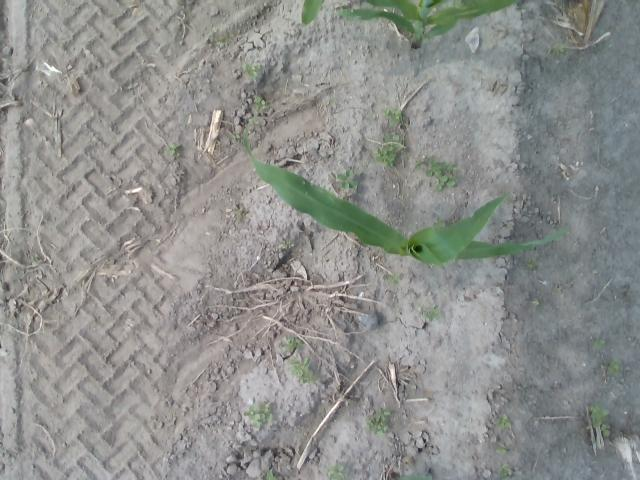Maize: (244, 117, 570, 268), (302, 0, 518, 49), (388, 471, 428, 480)
Weeds: (424, 154, 454, 190), (245, 402, 274, 428), (289, 355, 314, 380), (374, 145, 400, 164), (338, 169, 360, 191), (382, 107, 403, 121), (328, 462, 344, 479), (496, 463, 516, 476), (242, 63, 258, 79), (592, 405, 609, 420), (494, 414, 510, 429), (496, 440, 512, 454), (420, 307, 440, 318), (548, 43, 566, 55), (283, 338, 301, 349), (599, 420, 610, 437), (376, 408, 391, 420), (386, 272, 402, 283), (384, 133, 400, 144), (307, 370, 319, 384), (523, 258, 536, 270), (169, 143, 182, 155), (265, 469, 278, 480), (366, 414, 376, 428), (254, 96, 266, 106), (608, 363, 619, 373), (377, 424, 388, 434), (280, 241, 294, 248), (594, 338, 604, 347), (216, 37, 227, 45), (234, 208, 244, 216), (212, 26, 218, 34)
